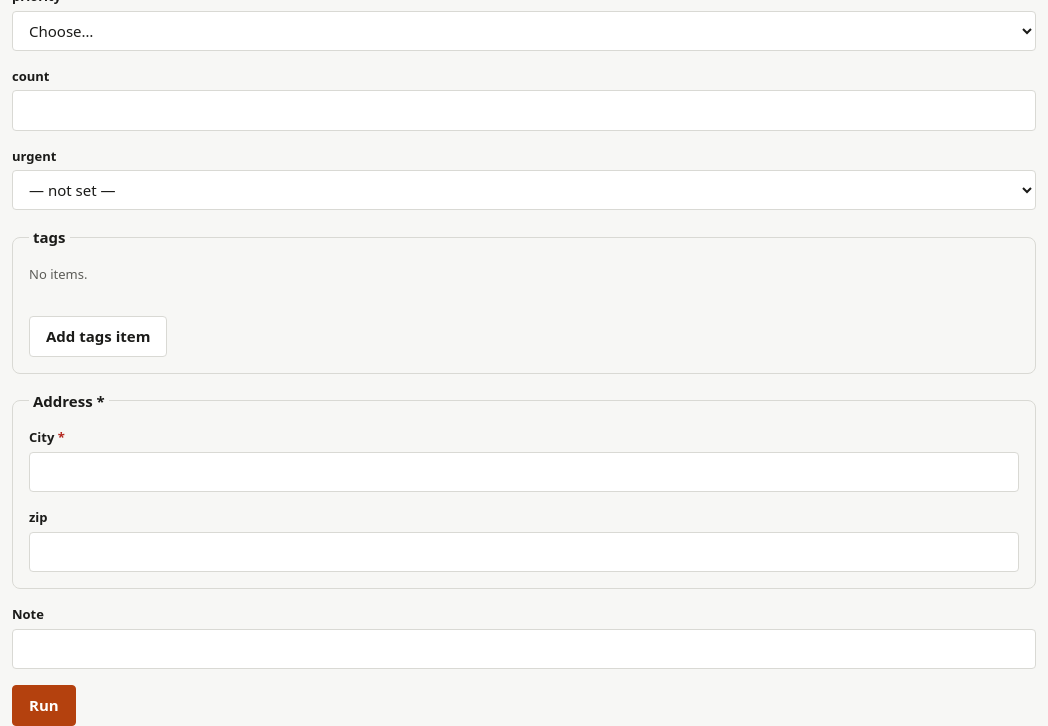
Scenario: SchemaForm › blocks submit, shows inline errors and focuses the first invalid field
(page scrolled)
What coordinates should you click on to do the following:
click the button "Run"
I would click on:
 (44, 705)
Its box is [12,685,76,725].
(page scrolled)
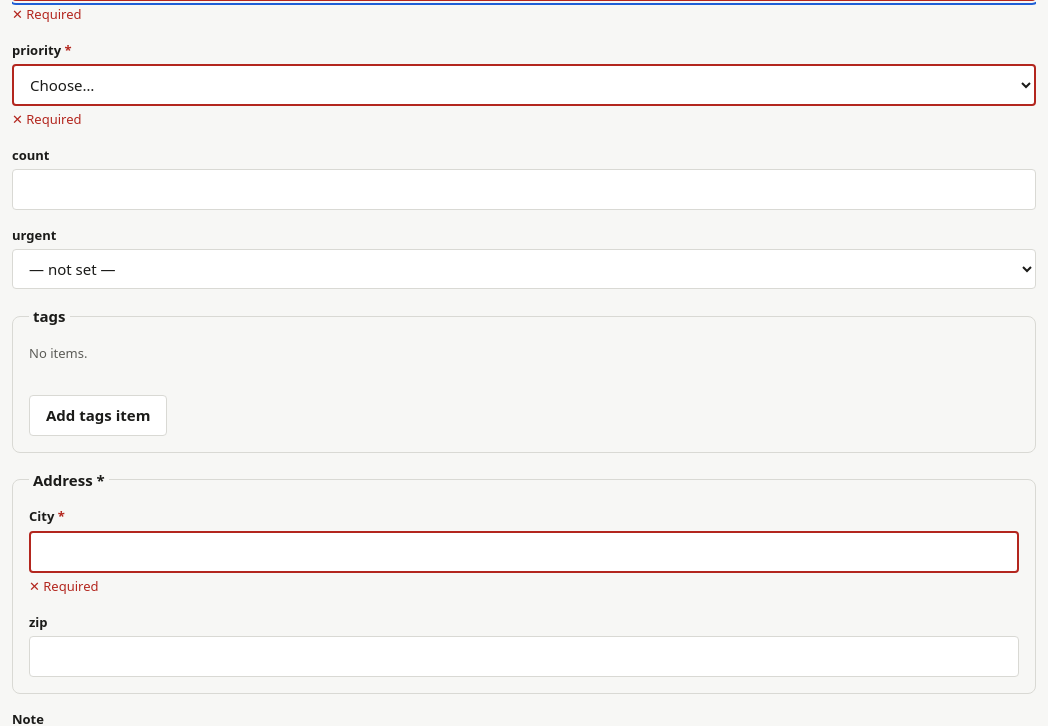
Now the text "Required" is shown 3 times, box [26,5,82,23]; [26,110,82,128]; [43,577,99,595]
